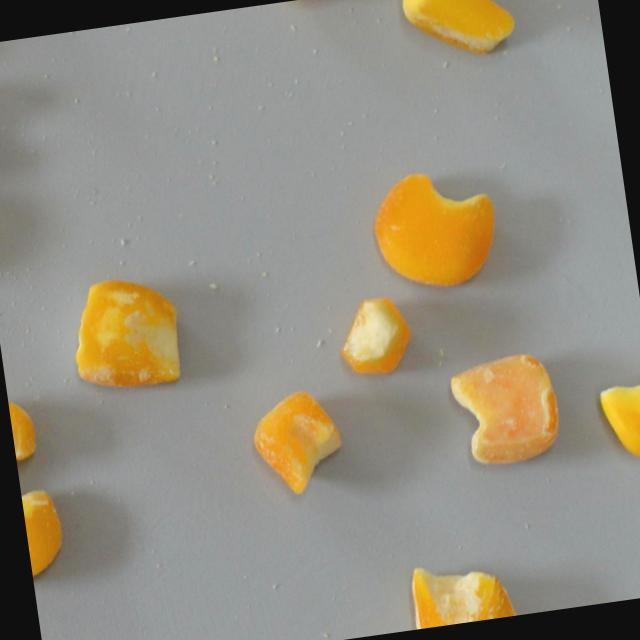agrietado: (395, 553, 521, 631)
estandar: (400, 0, 522, 64)
no_canjicado: (366, 162, 506, 299), (336, 292, 418, 382), (21, 484, 71, 585), (596, 368, 640, 465)
pelicula: (65, 268, 188, 398), (443, 343, 567, 467), (248, 384, 350, 503), (7, 387, 45, 486)
